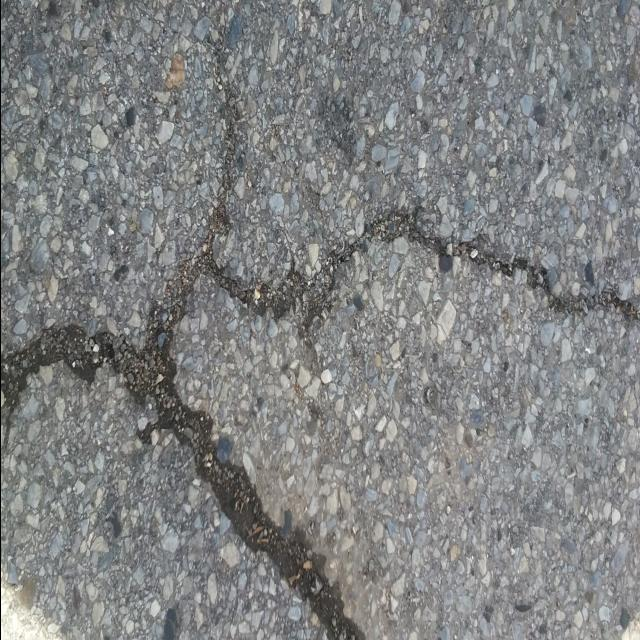Crack: (0, 24, 640, 640)
